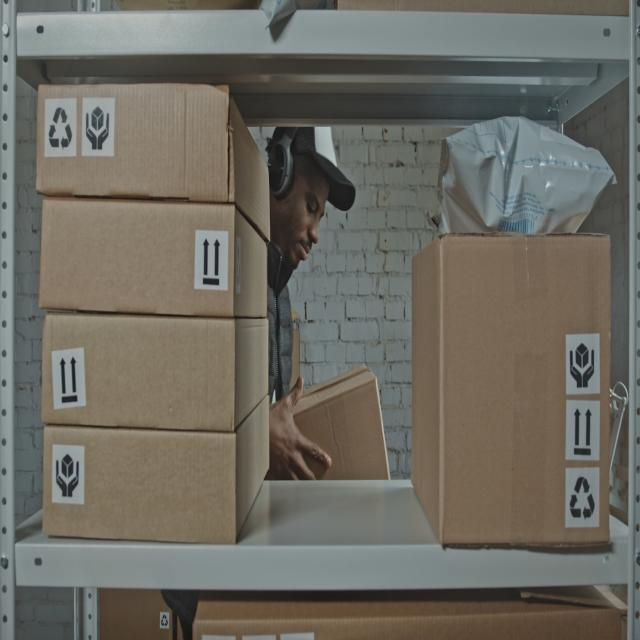counting-the-number-of-boxes: (410, 235, 611, 547), (36, 84, 271, 244), (44, 391, 270, 543), (39, 198, 268, 316), (42, 318, 269, 431), (294, 364, 390, 480)
